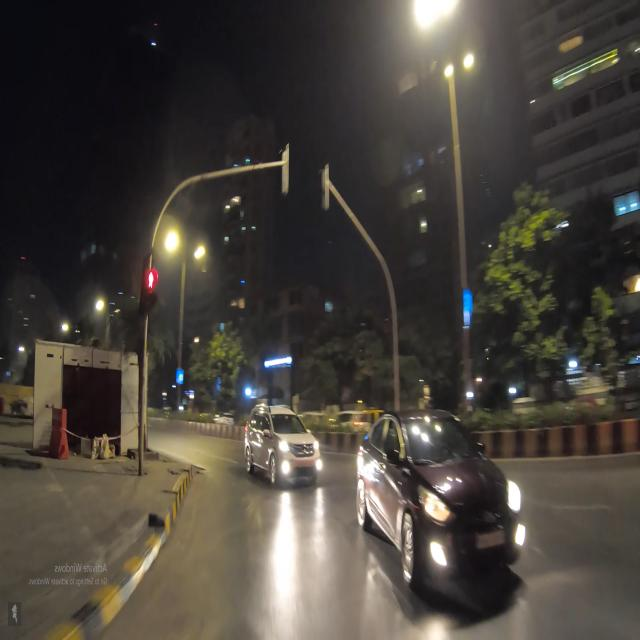headlights: (419, 470, 527, 568), (270, 435, 329, 480)
